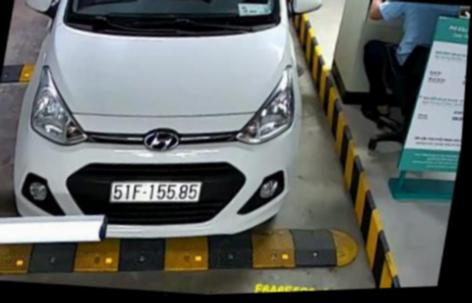License_Plate: (104, 166, 216, 218)
